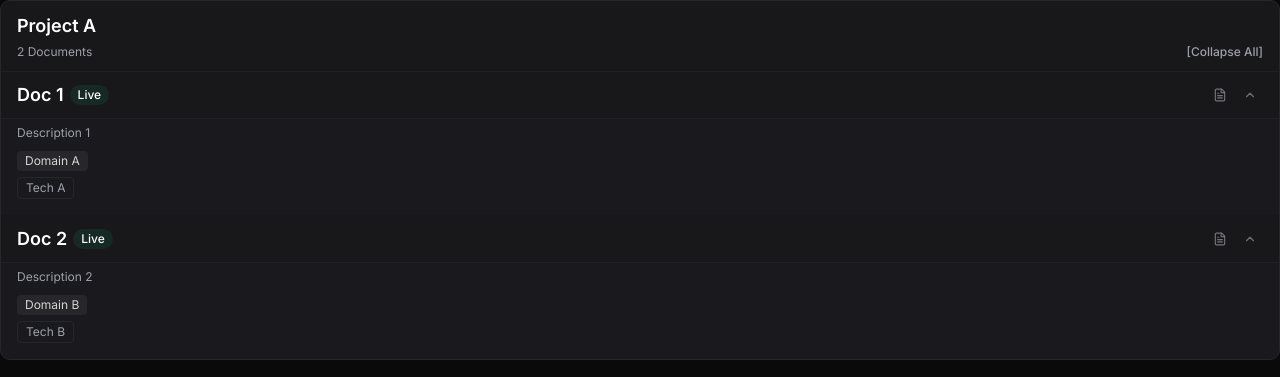
Test: BlueprintGroup › allows manual collapse even when isFocused is true
The image size is (1280, 377).
Expected: the text "Description 1" is shown, top-left (17, 125), bottom-right (90, 140)
// Click to collapse Doc 1
Click the text "Doc 1": point(40, 95) top-left (17, 84), bottom-right (64, 106)
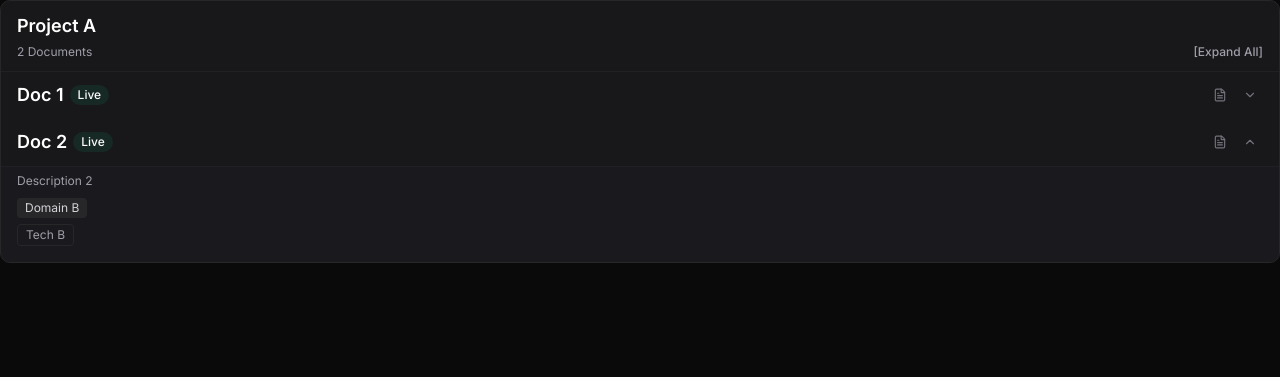
Expected: the text "Description 2" is shown, top-left (17, 172), bottom-right (92, 188)
Expected: the text "Description 1" is gone
